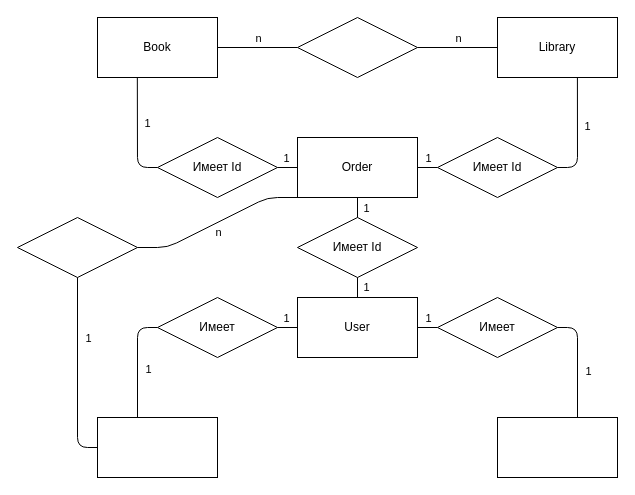
The diagram is 635 pixels wide and 495 high, and some of its shapes have lost their labels. Here are the shapes that lost their labels. From the top down, the centre of each, then its label:
At pixel 357 47: "Принадлежит".
At pixel 77 247: "Отслеживает".
At pixel 157 447: "User limit".
At pixel 557 447: "User rating".
